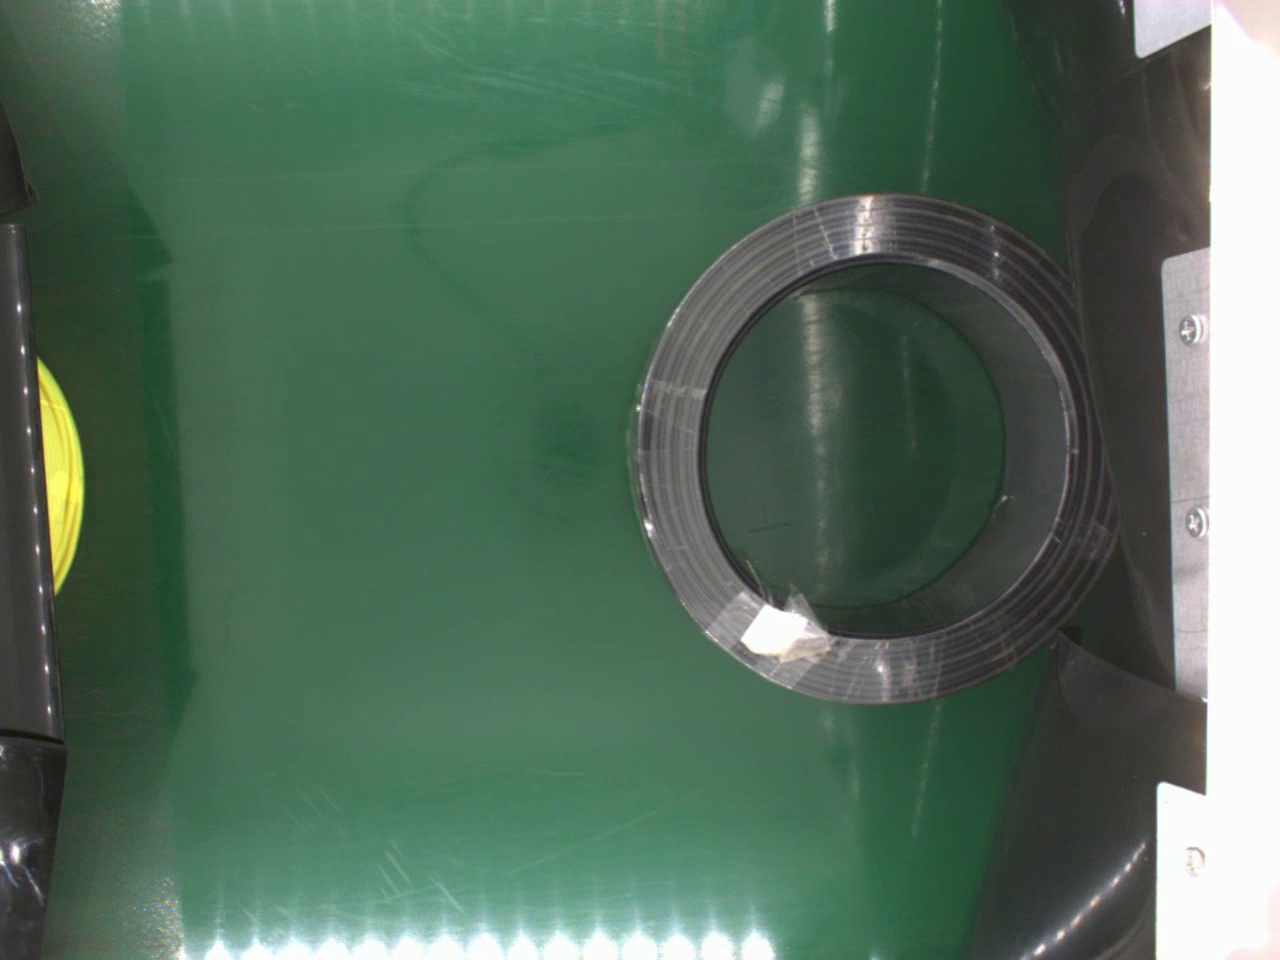black: (627, 187, 1112, 711)
